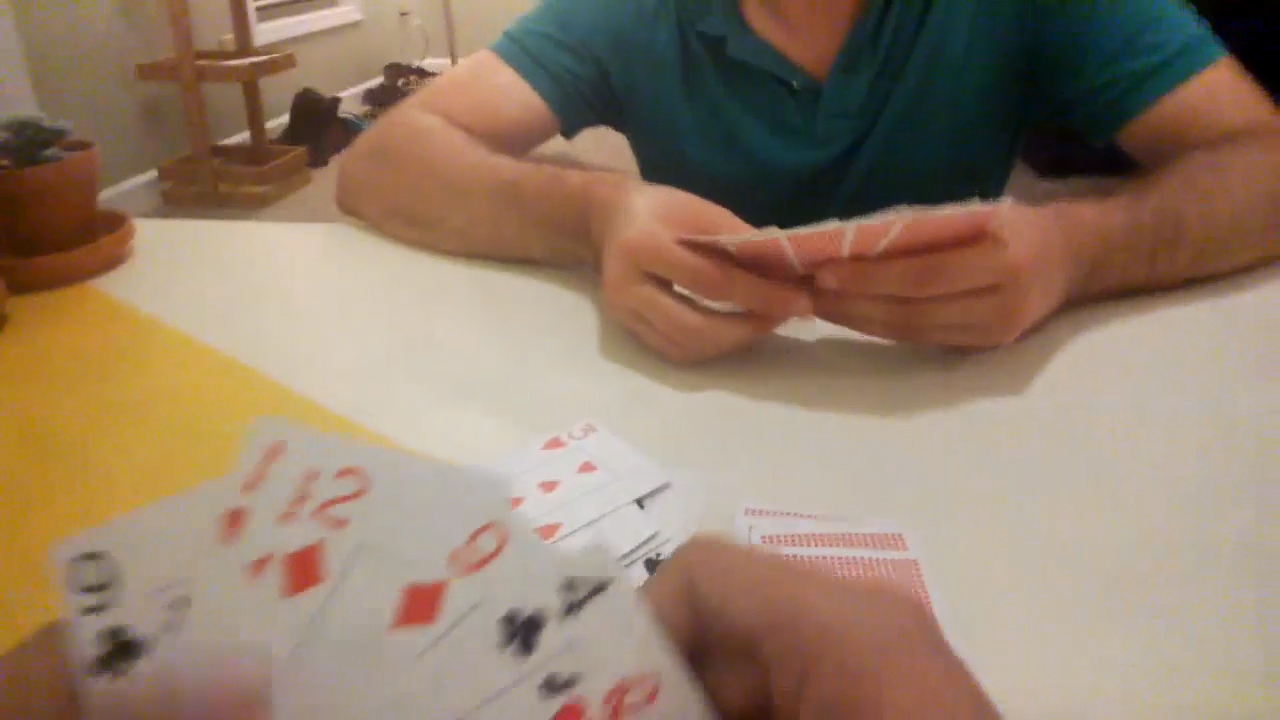hand: (641, 540, 1001, 718), (593, 184, 822, 354), (811, 196, 1066, 342), (0, 608, 271, 718)
